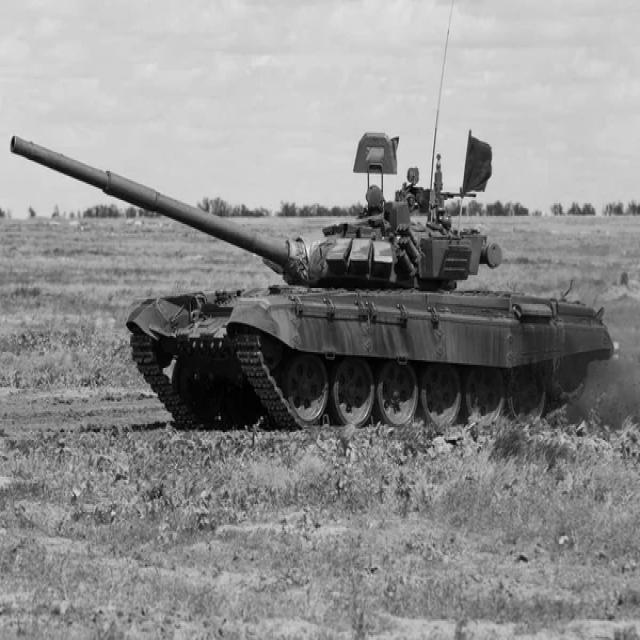Tank: (10, 125, 612, 424)
